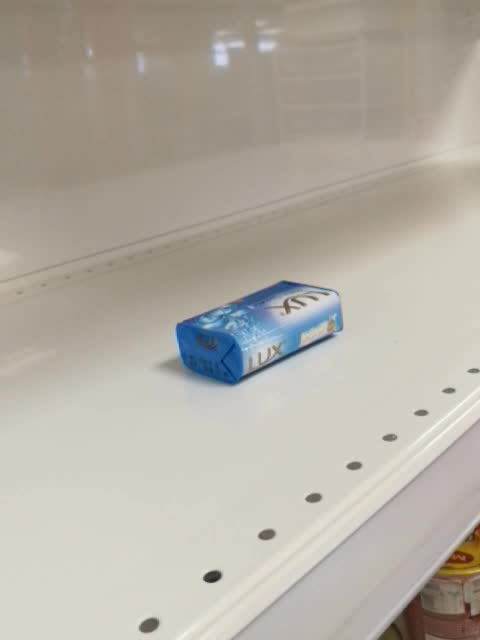soap: (174, 279, 346, 386)
